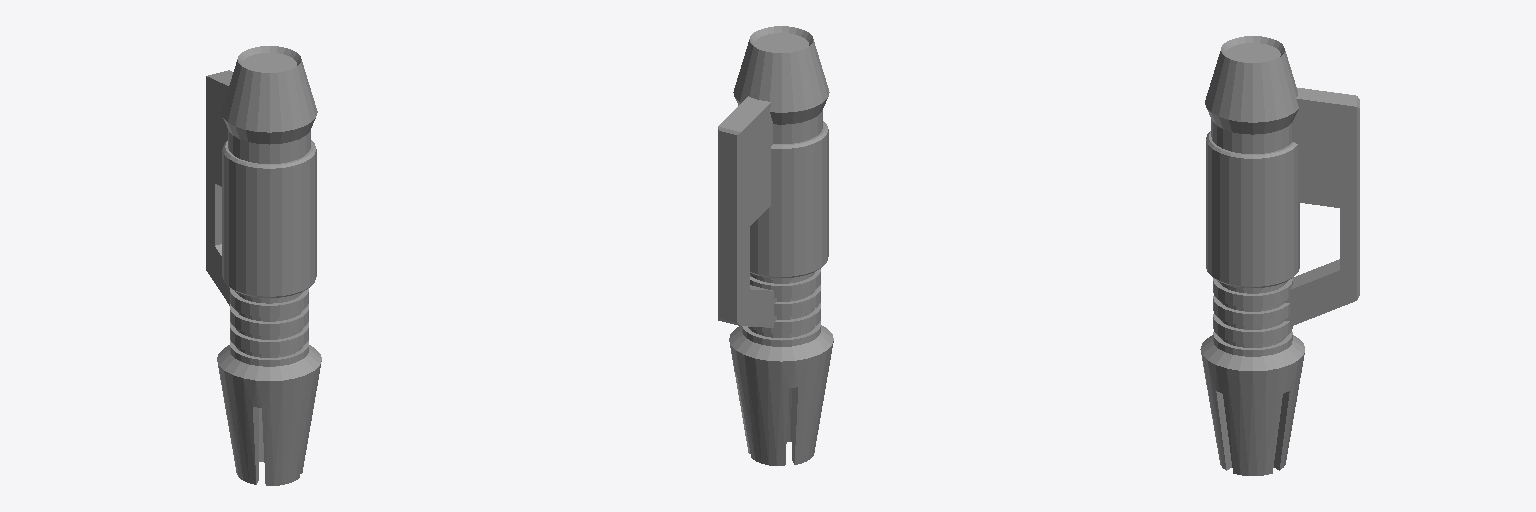
File: Laser001.obj
3 views of the same model, side by side, from view 1: azimuth 30°, elevation 25°; view 2: azimuth 150°, elevation 25°; view 3: azimuth 270°, elevation 25° (orthographic).
Visible parts, largest first — view 1: Body4; view 2: Body4; view 3: Body4.
Boxes of the visible parts, box(x1,y1,x2,y2) form: Body4: box(206, 46, 321, 485); Body4: box(718, 26, 833, 465); Body4: box(1200, 36, 1359, 475).
Bounding box in the file's own units: 1.06 × 4.62 × 1.61.